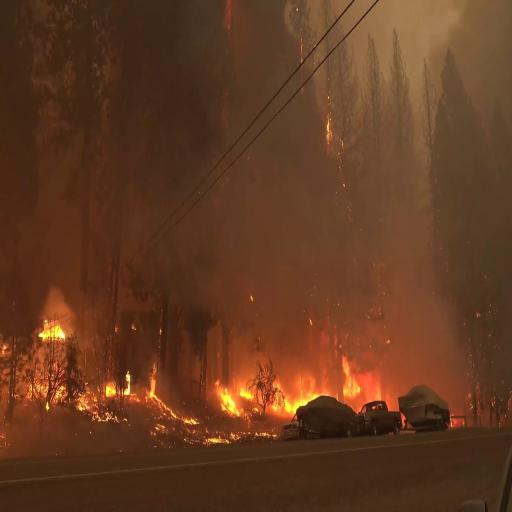fire: (276, 384, 314, 420), (218, 376, 236, 416)
